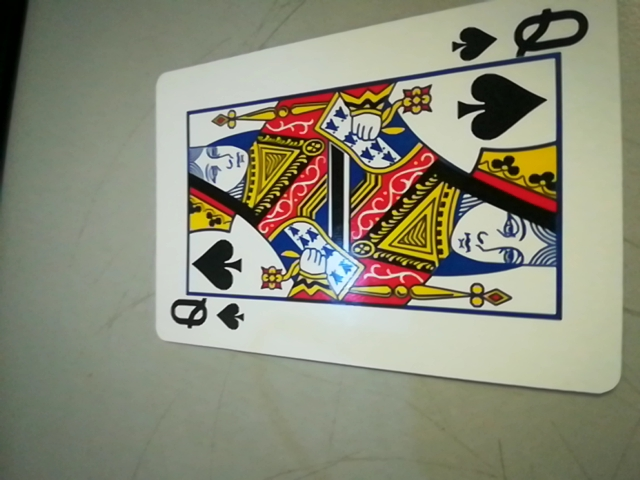ht q: (159, 288, 246, 340)
